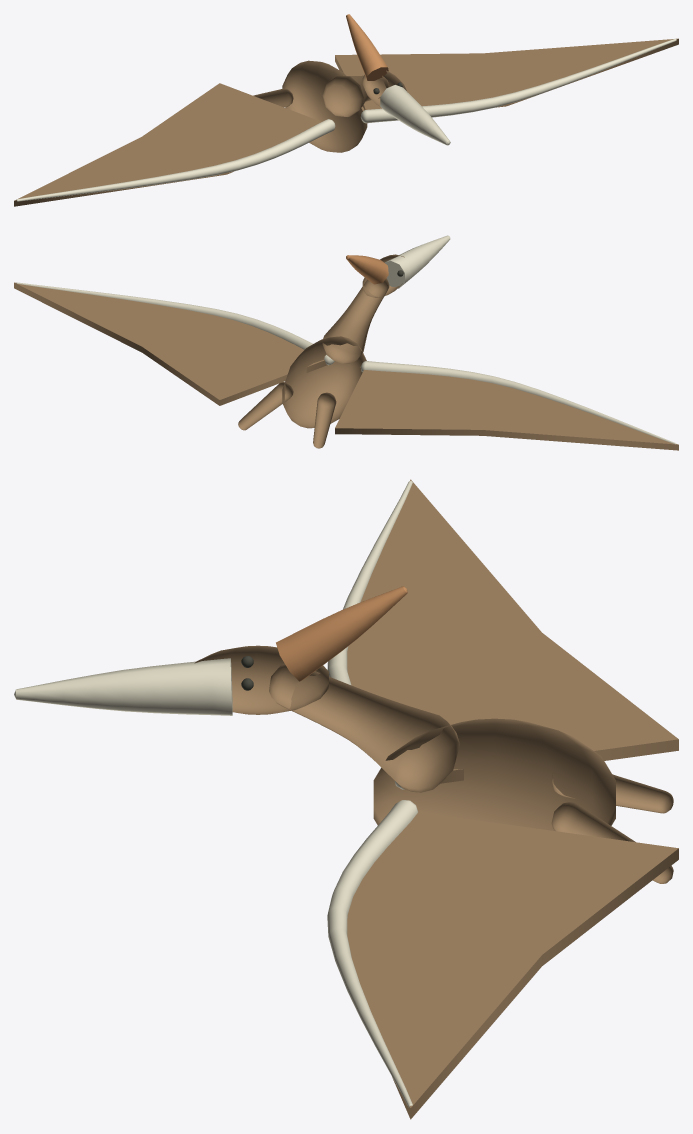
Rendered from dinosaurs-and-prehistoric-life-pteranodon-soaring-53b9c4c3__4912.glb.
3 renders of one model, top to bottom at view 1: azimuth 30°, elevation 25°; view 2: azimuth 150°, elevation 25°; view 3: azimuth 270°, elevation 25°, orthographic. The views are drawn at different scales.
Parts seen in each view (by area): view 1: pteranodon-soaring; view 2: pteranodon-soaring; view 3: pteranodon-soaring.
Boxes of the visible parts, bbox=[...] form: pteranodon-soaring: bbox=[14, 14, 678, 206]; pteranodon-soaring: bbox=[14, 235, 678, 450]; pteranodon-soaring: bbox=[14, 479, 678, 1119].
Bounding box in the file's own units: 4.03 × 0.8644 × 1.8.
